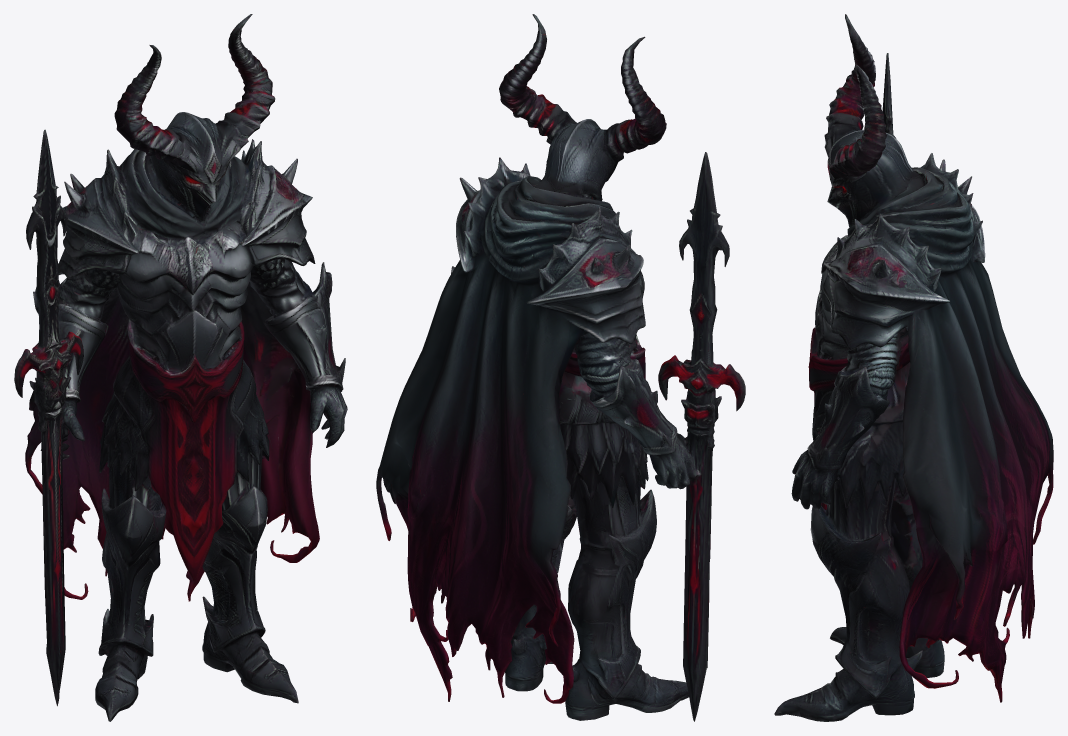
Rendered from Meshy_AI_shadow_knight_demonic_0504063401_texture.fbx.
3 renders of one model, left to right at view 1: azimuth 30°, elevation 25°; view 2: azimuth 150°, elevation 25°; view 3: azimuth 270°, elevation 25°, orthographic.
Visible parts, largest first — view 1: Mesh_0; view 2: Mesh_0; view 3: Mesh_0.
Part boxes in pixels (x1,y1,x2,y2): Mesh_0: (14, 14, 347, 721); Mesh_0: (376, 14, 745, 721); Mesh_0: (774, 14, 1053, 721).
Size of the model in its own units: 101 by 191 by 74.57.
Materials: 1 (1 with a texture image).
